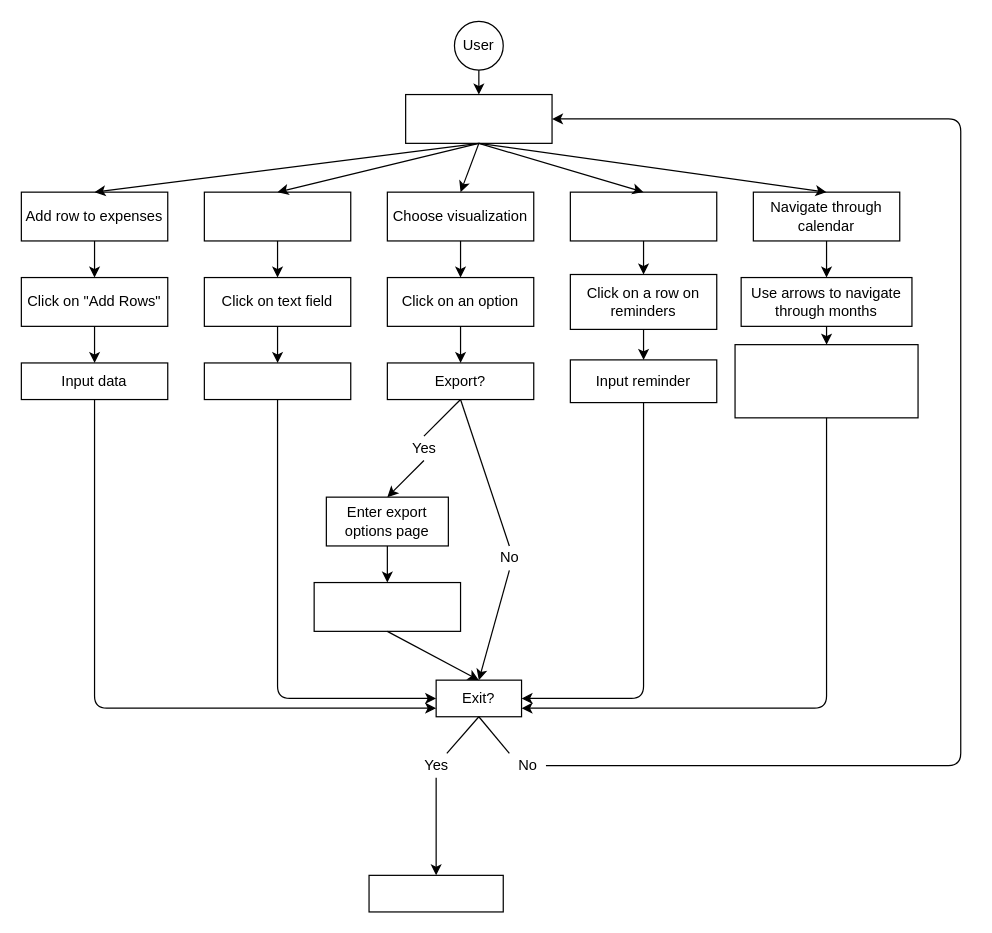
Image size: 992x933. Some labels were removed from this diagram. Each missing label, with the centre of its shape:
"Add/change reminders" belongs at (x=643, y=216).
"Enter web page" belongs at (x=478, y=118).
"Expenses table will change accordingly to display the selected month's data" belongs at (x=826, y=380).
"Export visualization as image" belongs at (x=387, y=606).
"Input budget" belongs at (x=277, y=381).
"Leave web page" belongs at (x=435, y=893).
"Set/change budget" belongs at (x=277, y=216).
